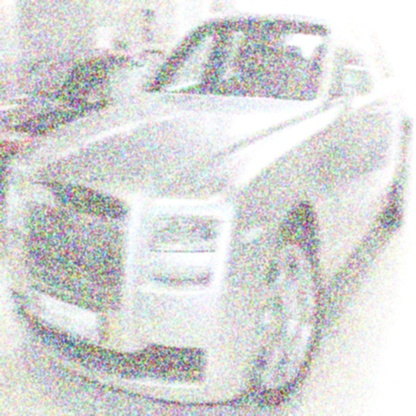Vehicle: (2, 10, 412, 410)
